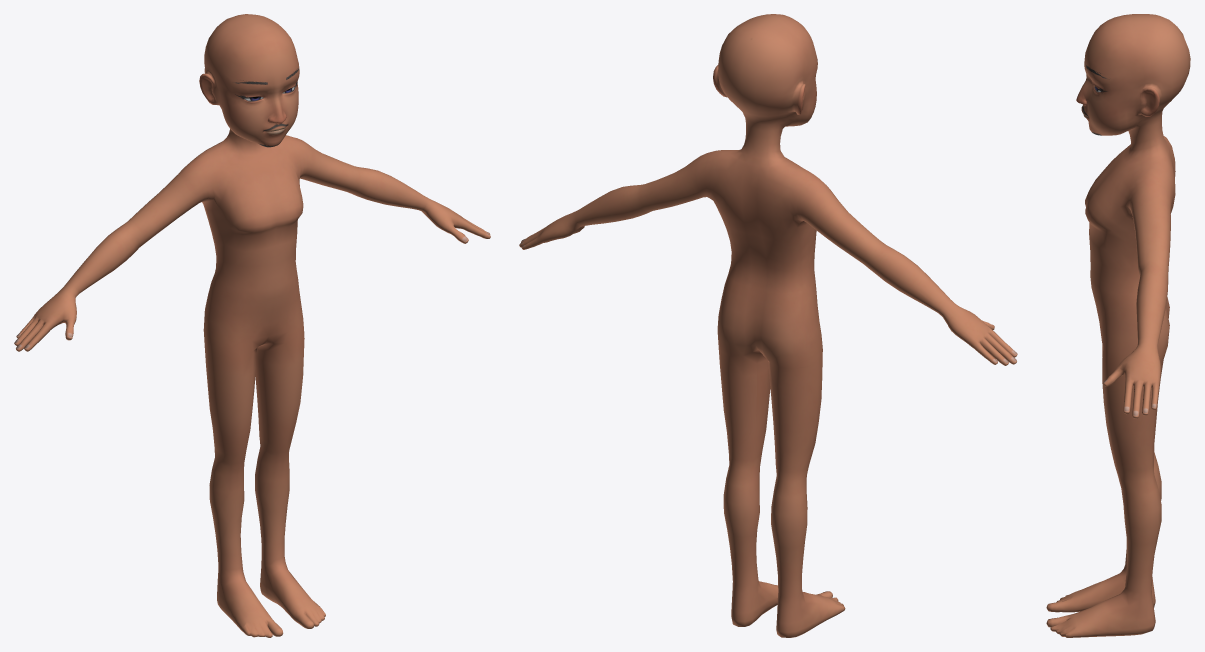
The model's file is frame_0036.glb.
3 views of the same model, side by side, from view 1: azimuth 30°, elevation 25°; view 2: azimuth 150°, elevation 25°; view 3: azimuth 270°, elevation 25° (orthographic). The views are drawn at different scales.
Parts seen in each view (by area): view 1: frame_0036_head_geo; view 2: frame_0036_head_geo; view 3: frame_0036_head_geo.
Boxes of the visible parts, bbox=[...] form: frame_0036_head_geo: bbox=[14, 14, 490, 637]; frame_0036_head_geo: bbox=[519, 14, 1017, 637]; frame_0036_head_geo: bbox=[1046, 14, 1190, 637].
Size of the model in its own units: 1.28 by 1.5 by 0.3253.
Materials: 3 (3 with a texture image).
